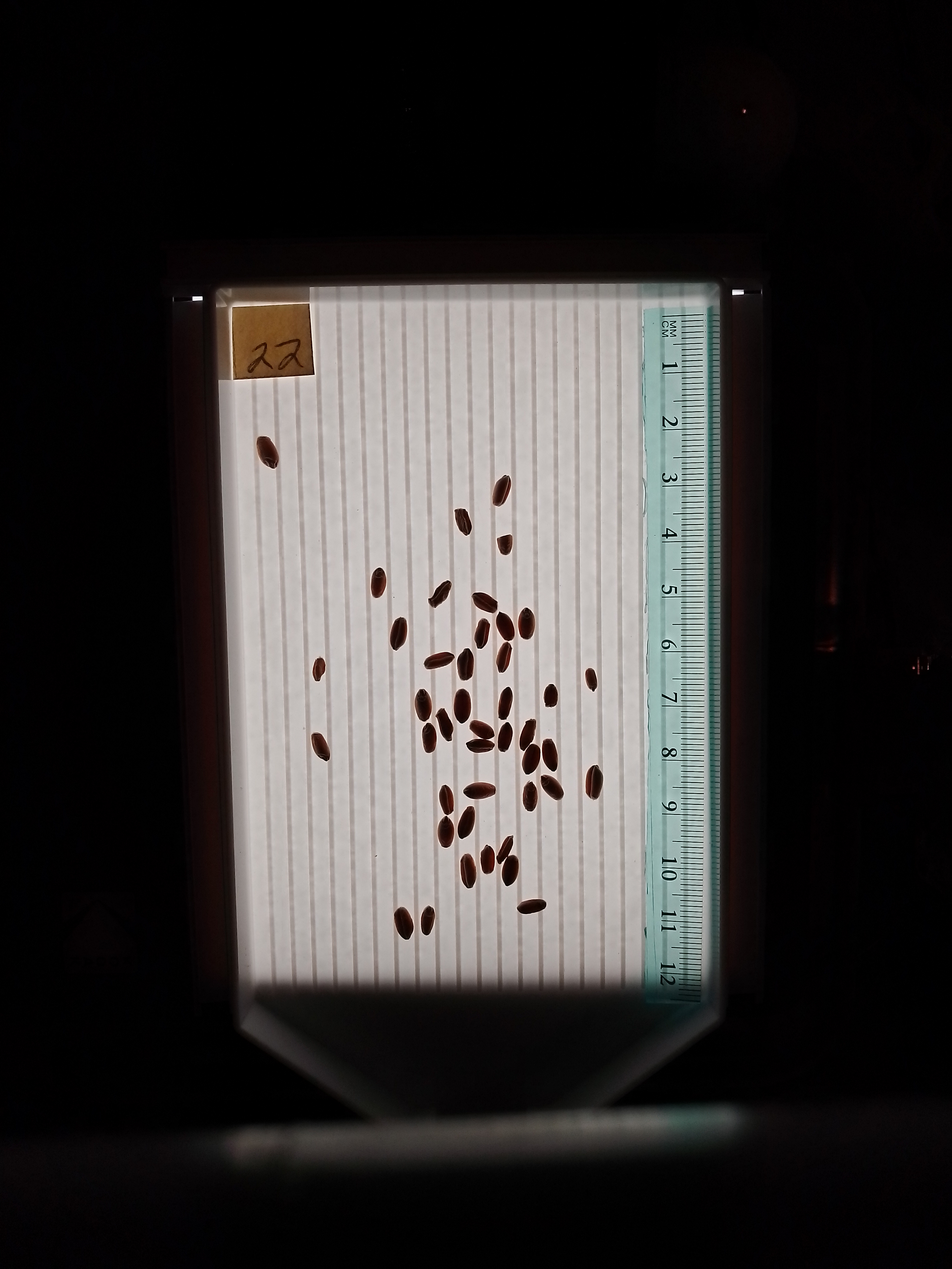seed mask: (256, 437, 279, 469), (585, 766, 603, 799), (394, 908, 413, 939), (390, 618, 408, 650), (541, 775, 564, 800), (492, 476, 511, 506), (454, 690, 471, 723), (429, 582, 451, 607), (458, 806, 475, 838), (464, 782, 495, 799), (415, 690, 432, 720), (461, 854, 476, 888), (312, 733, 330, 761), (522, 745, 540, 773), (473, 593, 498, 613), (519, 608, 535, 639), (542, 740, 558, 771), (502, 856, 519, 885), (437, 710, 453, 740), (370, 568, 386, 598), (458, 650, 474, 680), (425, 652, 453, 669), (438, 818, 454, 847), (496, 614, 514, 639), (518, 899, 546, 915), (455, 509, 472, 535), (422, 724, 437, 753), (520, 720, 535, 749), (499, 688, 513, 719), (522, 783, 537, 811), (475, 620, 490, 648), (470, 721, 493, 739), (497, 645, 511, 673), (421, 907, 435, 935), (498, 836, 513, 862), (499, 725, 513, 752), (480, 846, 494, 873), (467, 739, 493, 753), (440, 786, 453, 813), (312, 658, 326, 681), (544, 685, 558, 707), (498, 535, 513, 555), (585, 669, 598, 691)
